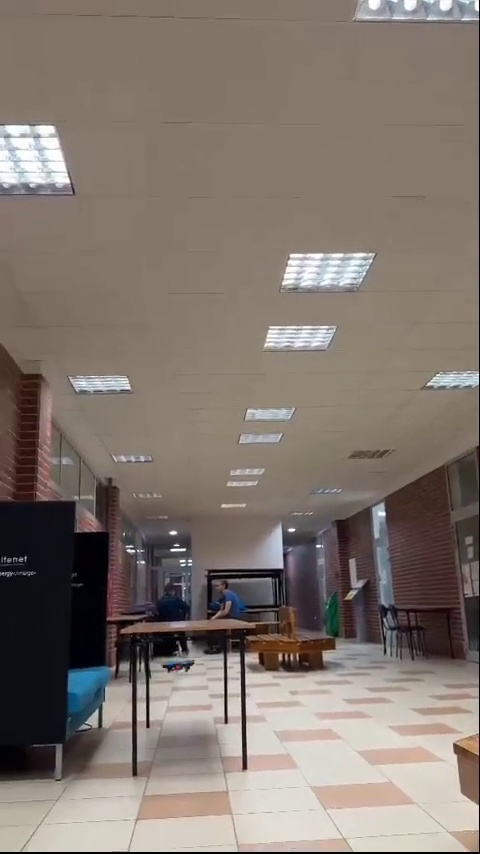drone: (163, 661, 194, 673)
no vest: (212, 576, 244, 624), (157, 582, 192, 620)
